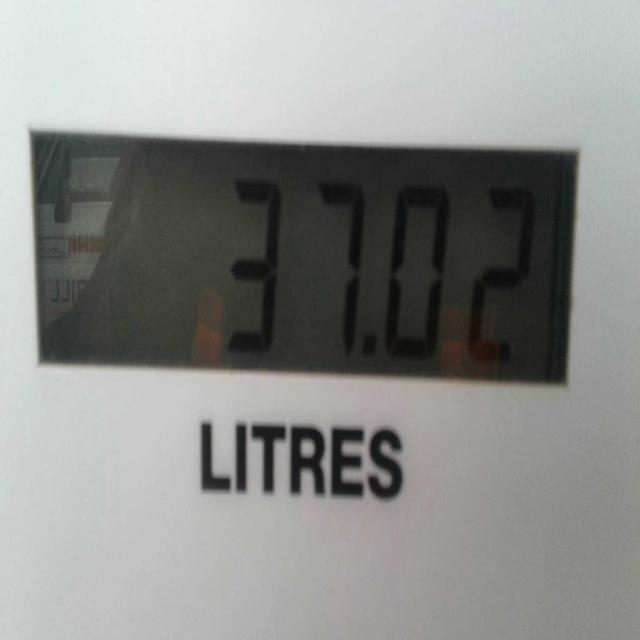.: (358, 311, 388, 376)
0: (380, 176, 454, 359)
2: (462, 168, 542, 368)
3: (208, 157, 288, 370), (305, 170, 371, 367)
